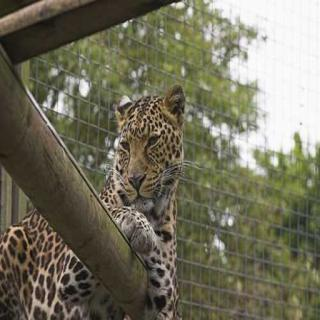Leopard: (48, 62, 220, 320)
